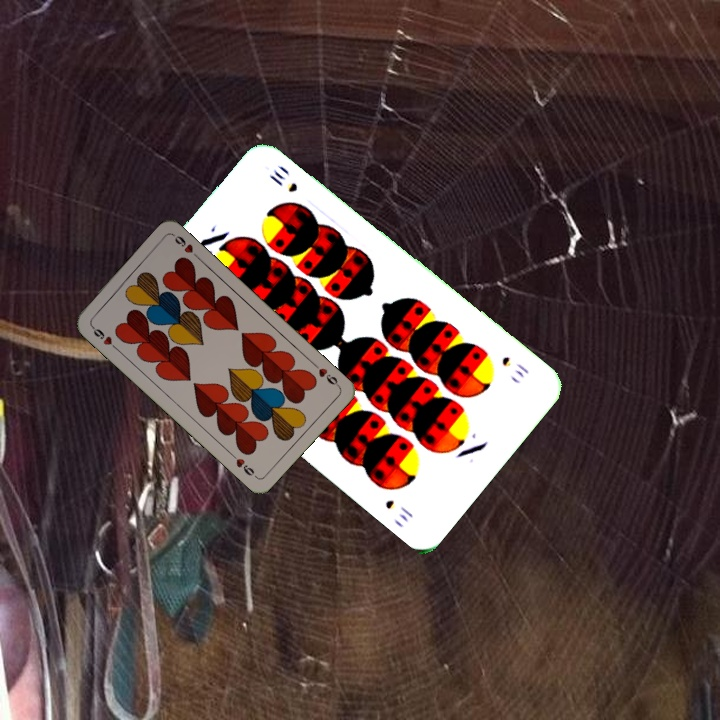H9: (87, 321, 120, 353), (309, 359, 342, 390)
S10: (497, 352, 532, 381)
